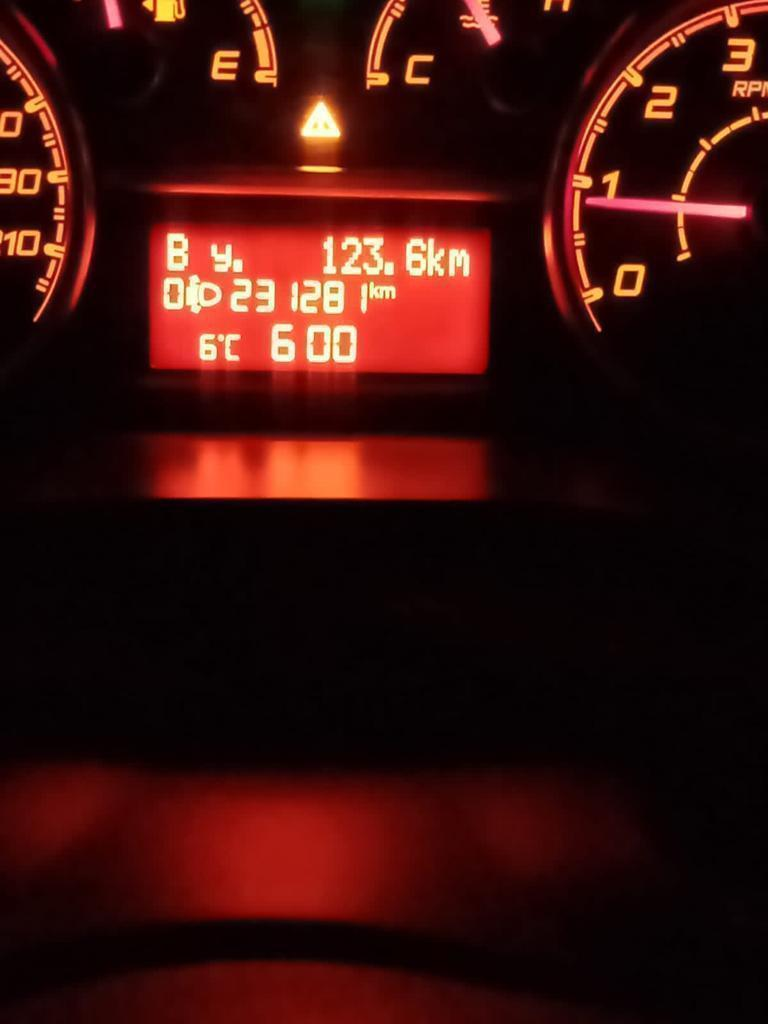,: (383, 260, 395, 276), (232, 257, 243, 272)
0: (331, 324, 358, 364), (306, 323, 331, 363), (162, 277, 184, 311)
1: (321, 234, 337, 275), (289, 280, 299, 312), (359, 282, 368, 315)
2: (340, 235, 362, 275), (228, 278, 252, 313), (300, 279, 320, 313)
3: (361, 235, 384, 275), (254, 278, 276, 311)
6: (269, 322, 296, 363), (405, 237, 427, 277), (197, 333, 217, 361)
8: (322, 279, 346, 314)
X: (164, 231, 189, 271), (426, 237, 446, 277), (447, 247, 471, 277), (210, 242, 232, 273), (223, 332, 241, 363), (379, 285, 396, 299), (369, 281, 379, 299)
odometer: (143, 217, 494, 377)
